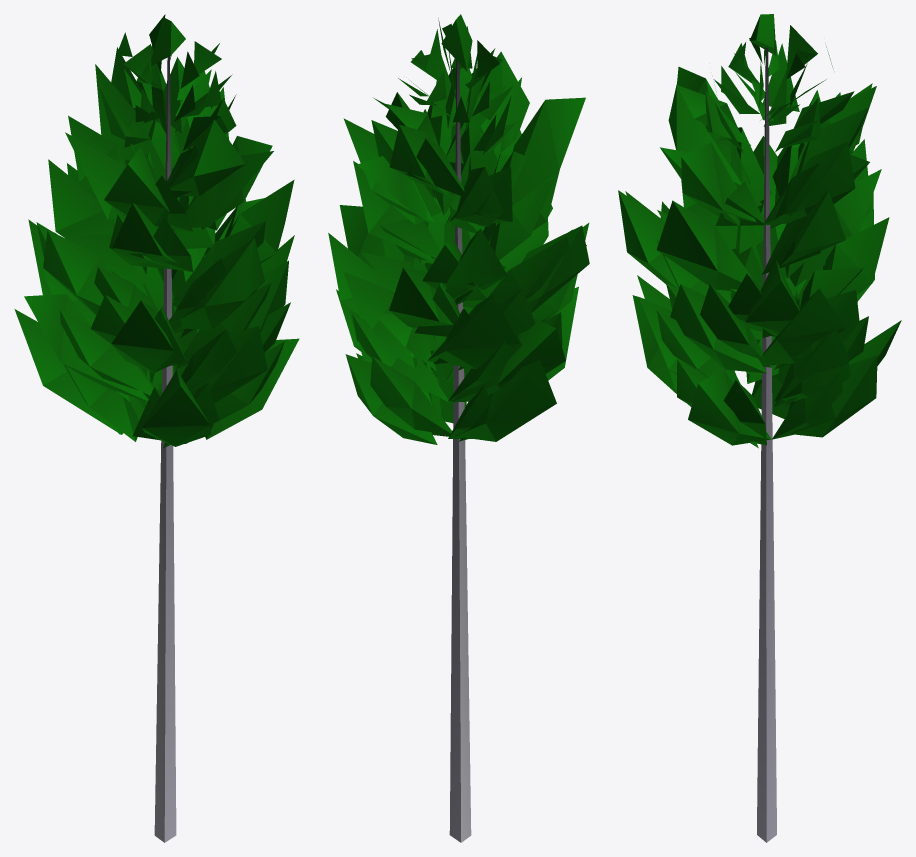
Rendered from birch-lod2.glb.
The picture shows the model from 3 angles, left to right: view 1: azimuth 30°, elevation 25°; view 2: azimuth 150°, elevation 25°; view 3: azimuth 270°, elevation 25°; orthographic projection.
Parts seen in each view (by area): view 1: tree; view 2: tree; view 3: tree.
Boxes of the visible parts, x1,y1,x2,y2 form: tree: (14, 14, 299, 842); tree: (328, 14, 589, 842); tree: (618, 14, 901, 842).
Bounding box in the file's own units: 5.35 × 17.94 × 5.6.
